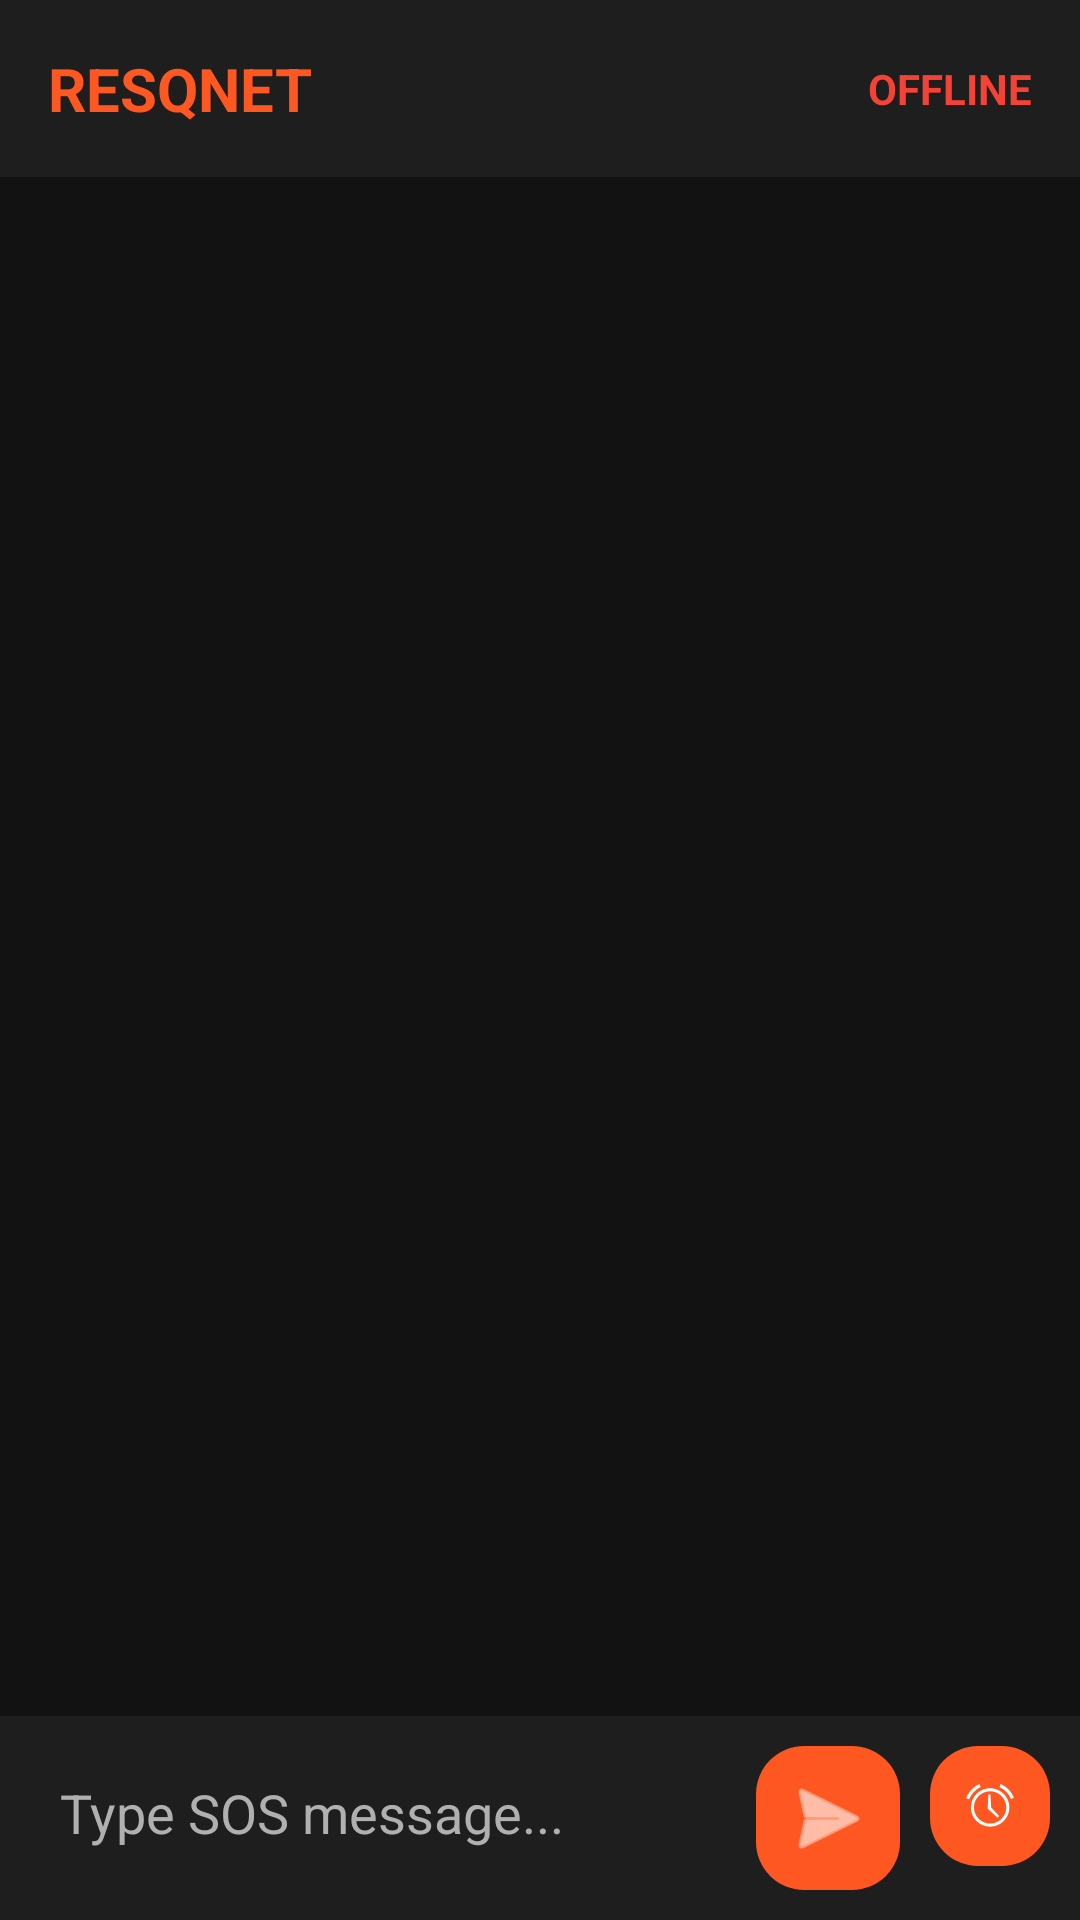

Screen size 1080 × 1920. Icon name, then its center in pixels as point (x, y):
lock idle alarm: point (990, 1806)
send: point (828, 1818)
